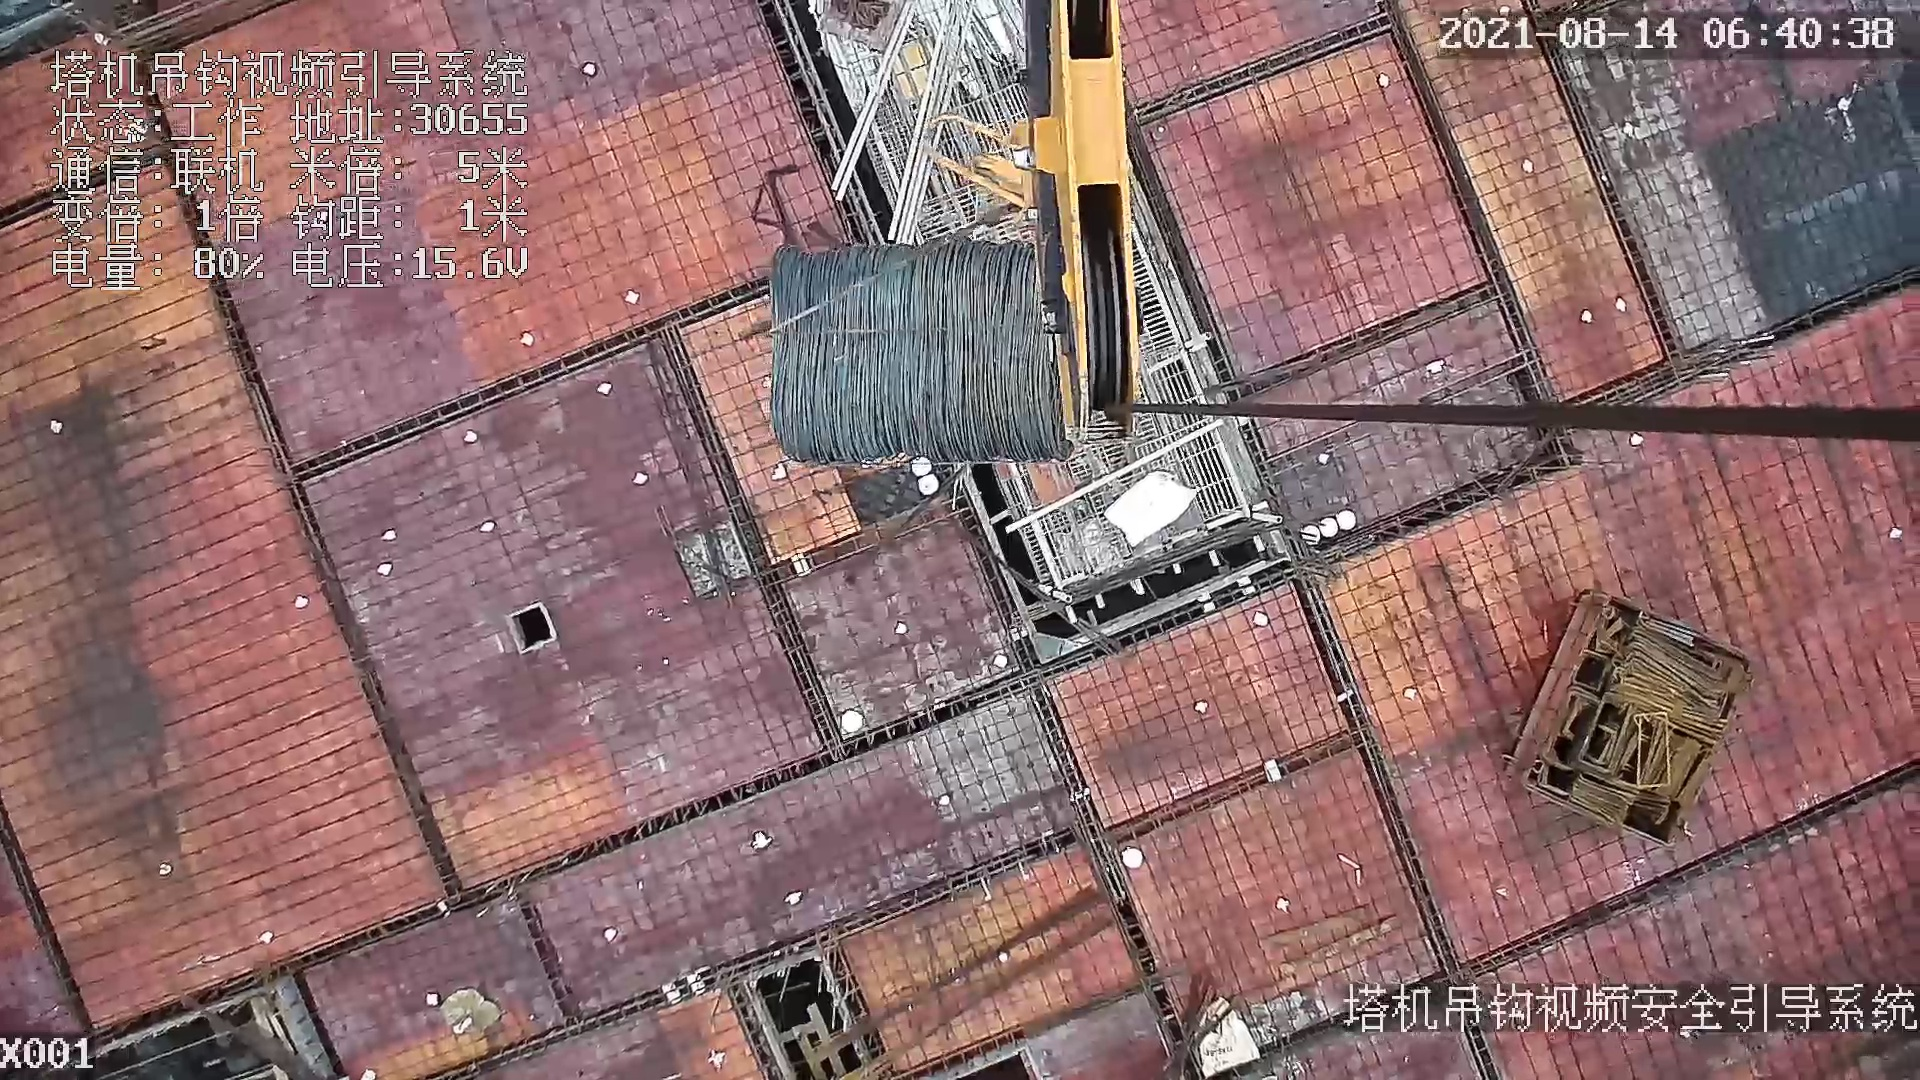hook: (922, 1, 1145, 450)
